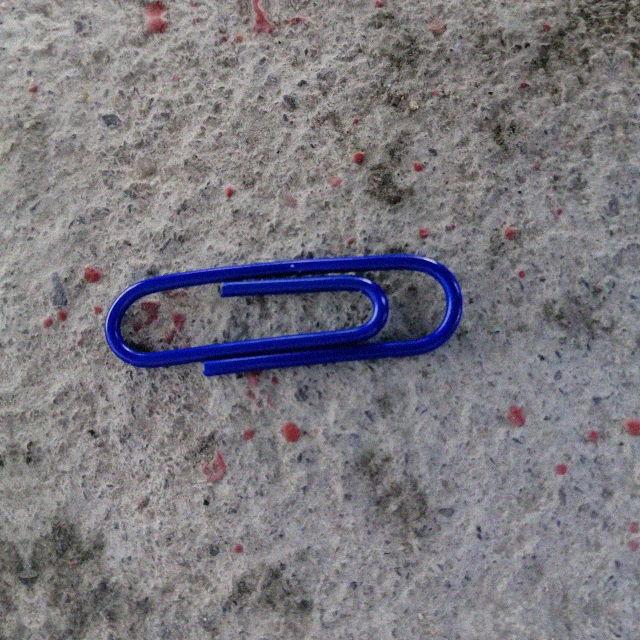pin: (105, 243, 461, 385)
